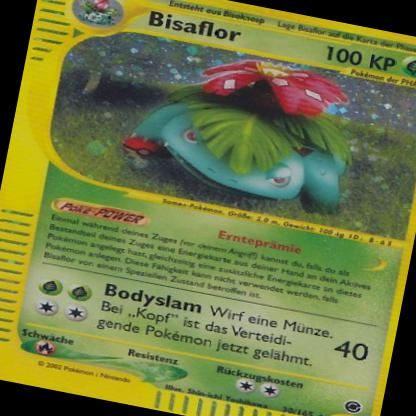Venusaur: (117, 38, 374, 222)
